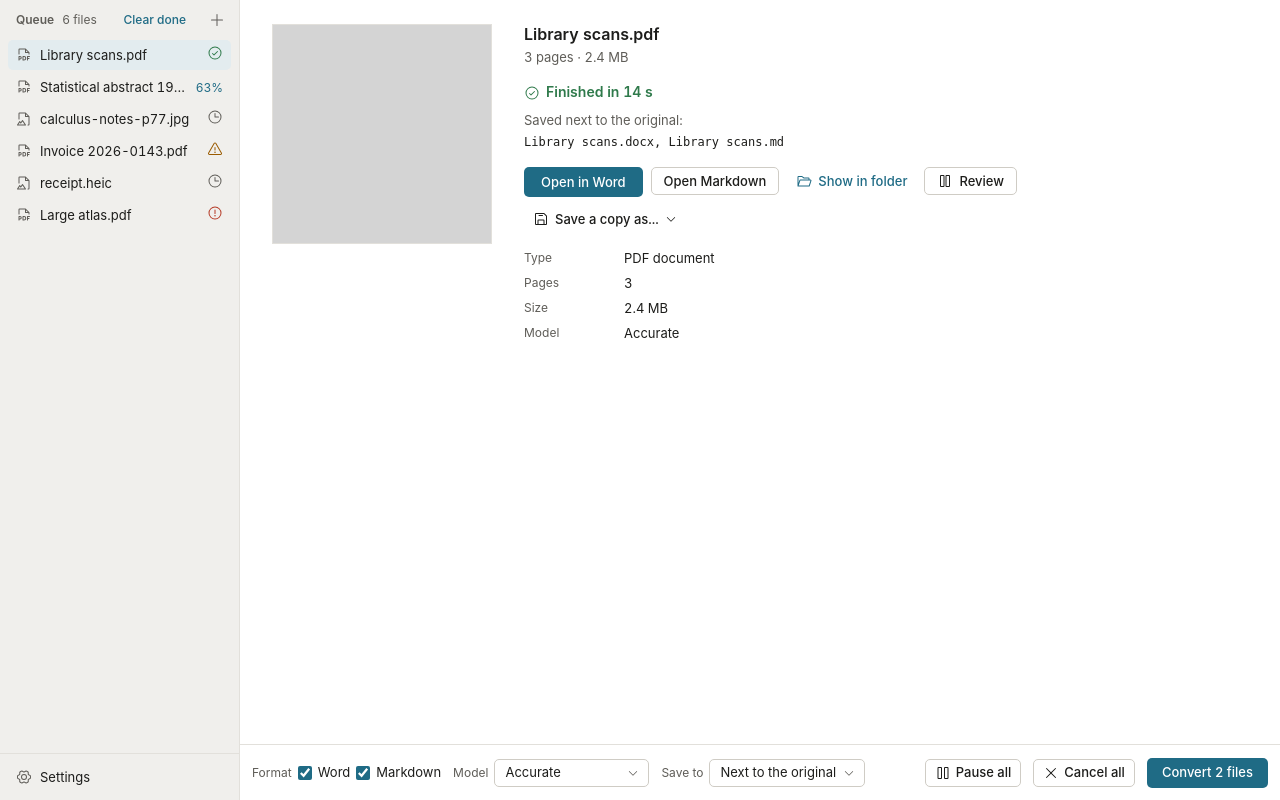
Test case: queue rows › clears finished and cancelled files with Clear done
The width and height of the screenshot is (1280, 800).
Click the button "Clear done".
click(155, 20)  # box x1=114 y1=8 x2=195 y2=32
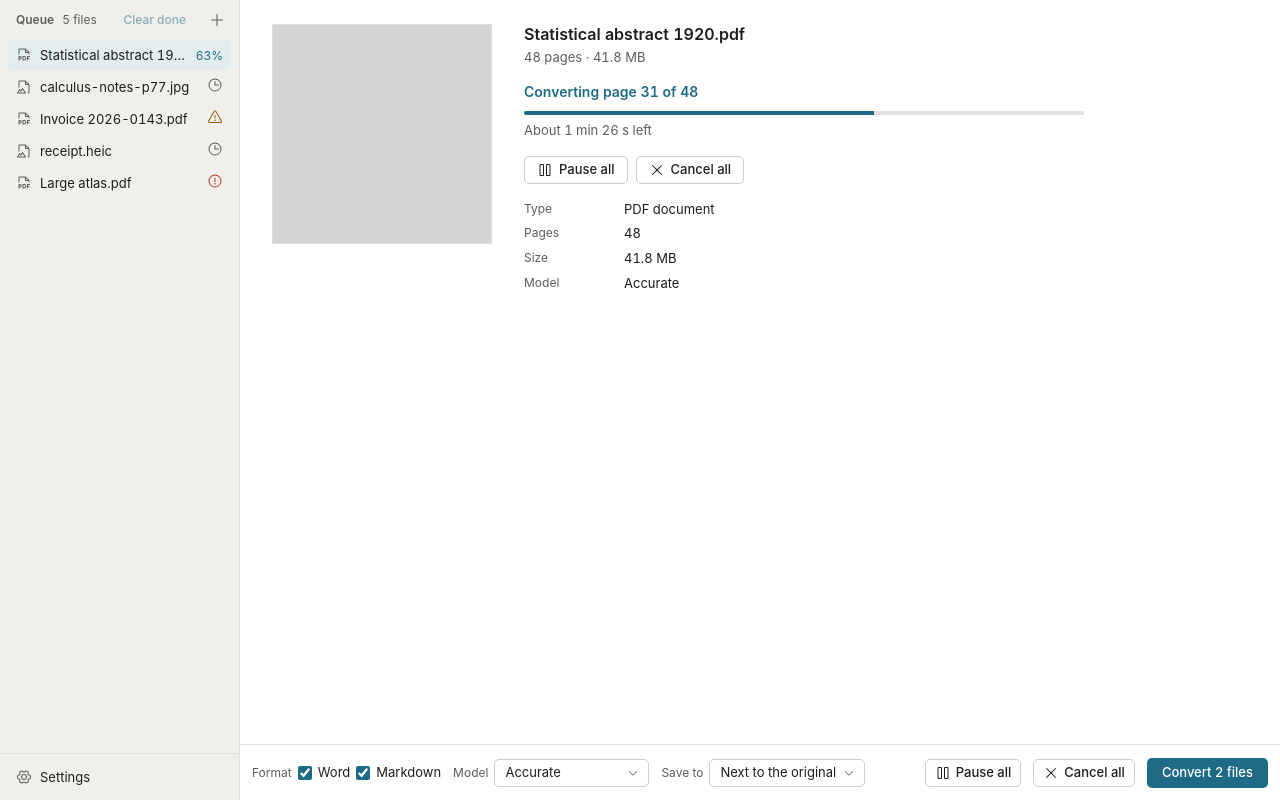
Expected: the button "Library scans" is gone
Expected: the text "5 files" is shown, x1=62 y1=11 x2=97 y2=29
Expected: the button "Clear done" is disabled, x1=114 y1=8 x2=195 y2=32
